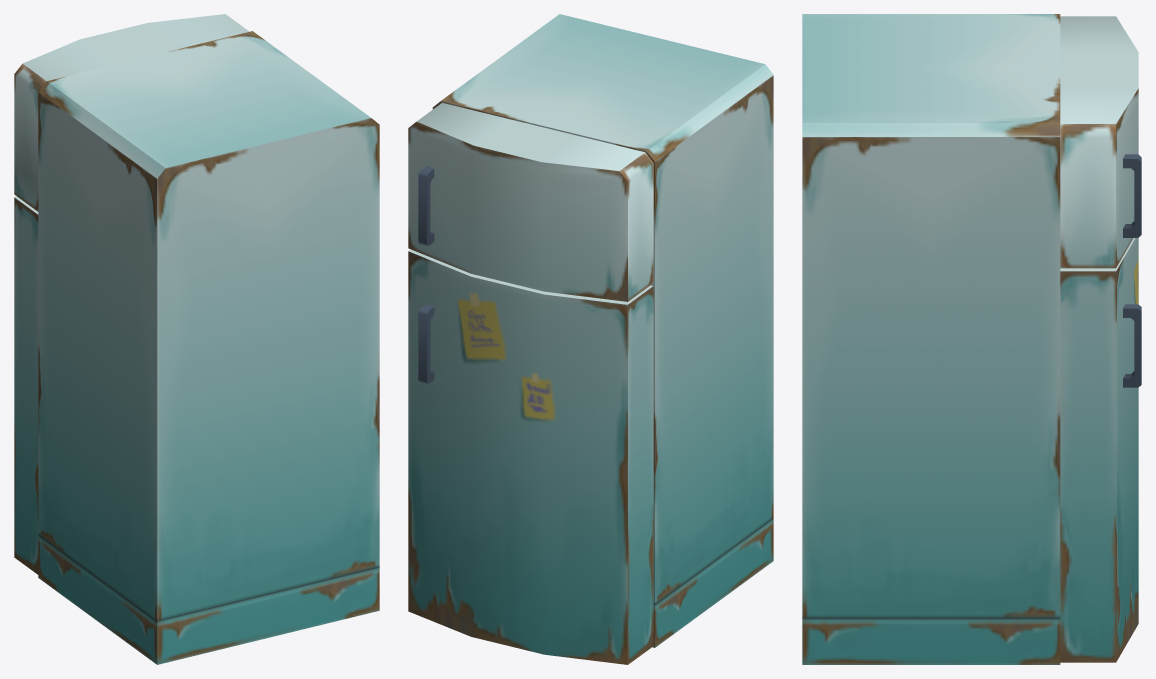
File: ELT0110020.fbx
The picture shows the model from 3 angles, left to right: view 1: azimuth 30°, elevation 25°; view 2: azimuth 150°, elevation 25°; view 3: azimuth 270°, elevation 25°; orthographic projection. The views are drawn at different scales.
Parts seen in each view (by area): view 1: smELT0110020; view 2: smELT0110020; view 3: smELT0110020.
Part boxes in pixels (box(x1,y1,x2,y2)): smELT0110020: box(14, 14, 379, 664); smELT0110020: box(408, 14, 773, 664); smELT0110020: box(802, 14, 1141, 664).
Bounding box in the file's own units: 89.76 × 191 × 109.
1 material, 1 textured.
